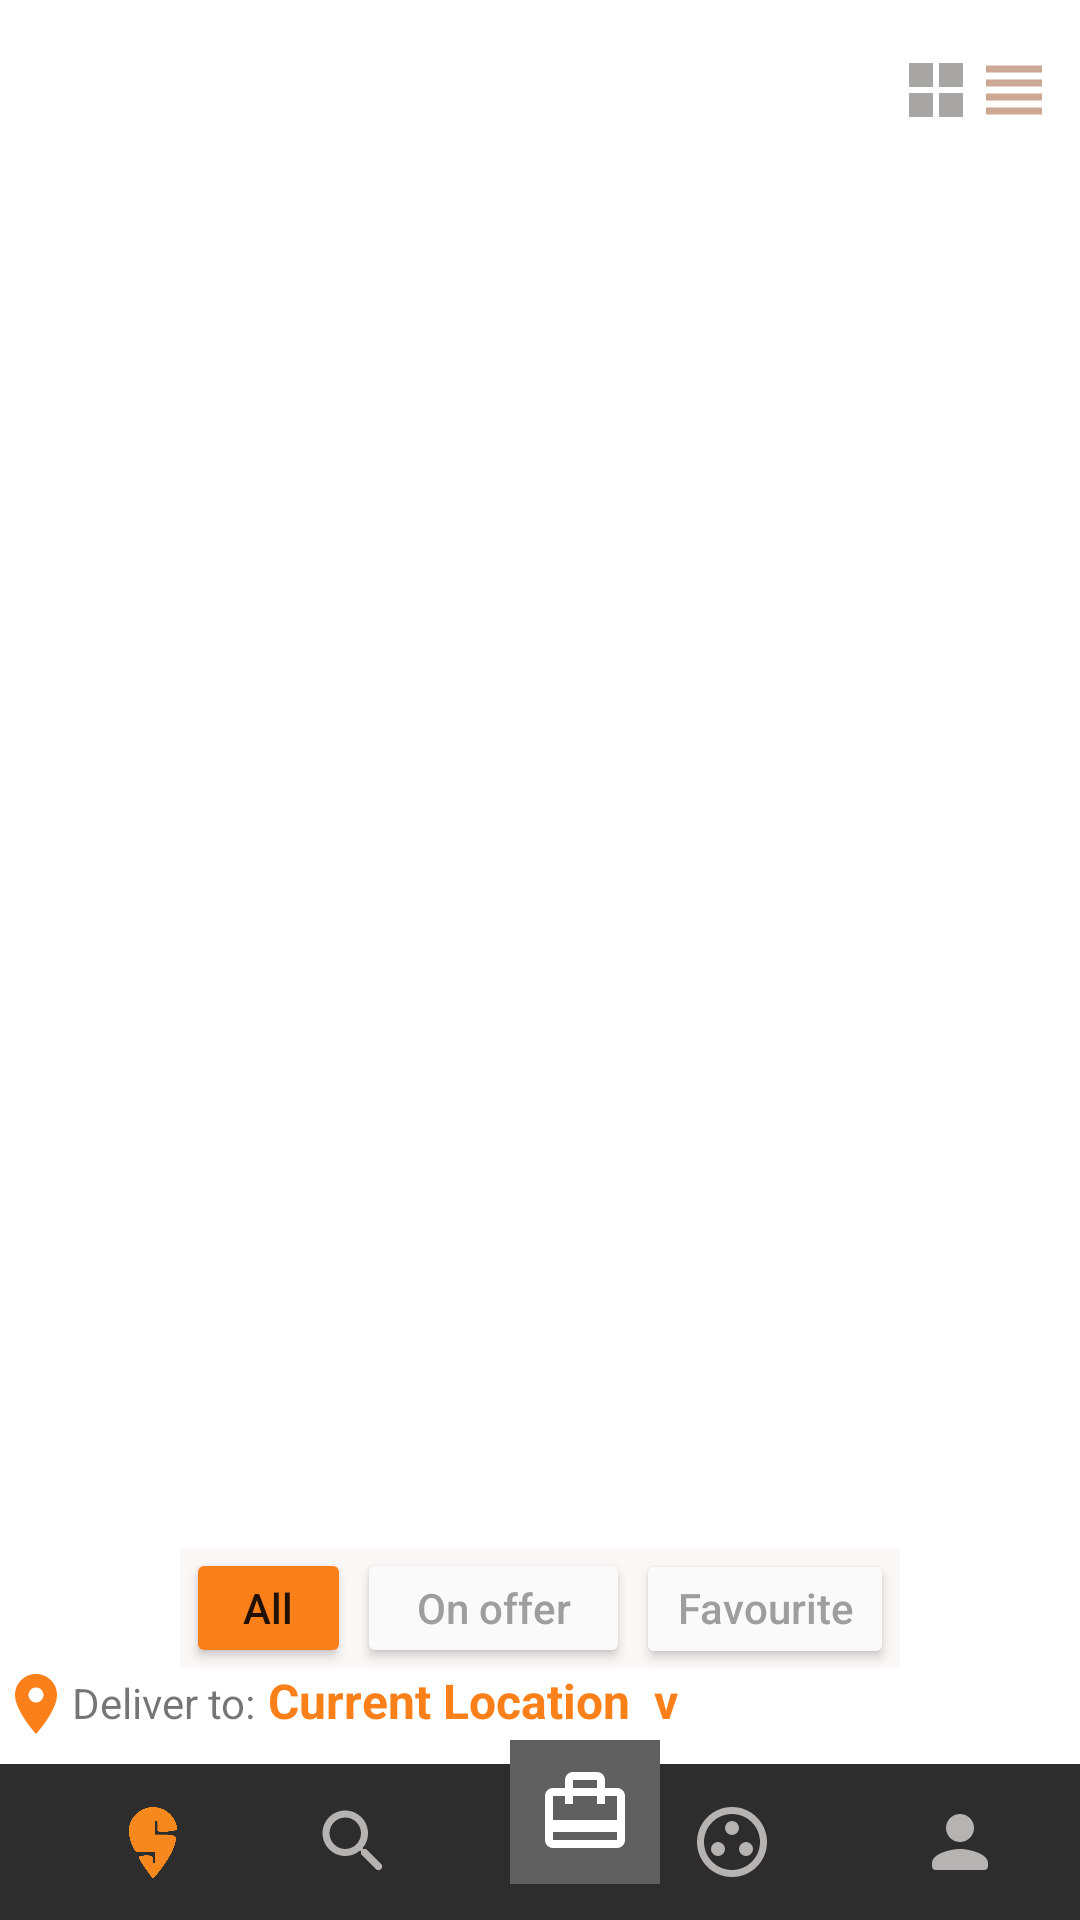

Icons on this 1080×1920 Android screen, each with its box as (x1, y1, x2, y2):
card travel: (545, 1772, 625, 1848)
grid view: (909, 63, 963, 117)
group work: (697, 1807, 767, 1877)
location on: (15, 1674, 57, 1734)
person: (932, 1814, 988, 1870)
search: (322, 1810, 382, 1871)
view headline: (986, 65, 1042, 115)
